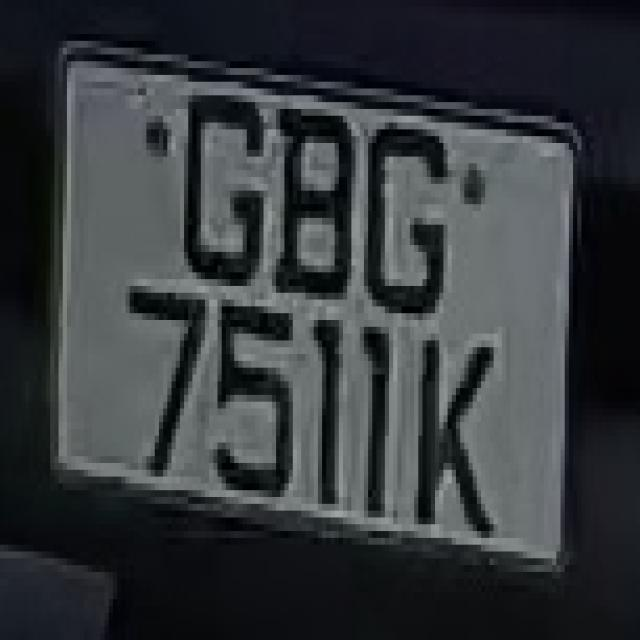1: (302, 300, 352, 531), (360, 313, 397, 538)
5: (213, 258, 297, 511)
7: (121, 266, 201, 490)
B: (264, 75, 359, 313)
G: (356, 102, 464, 334), (163, 75, 268, 299)
K: (418, 292, 506, 578)
